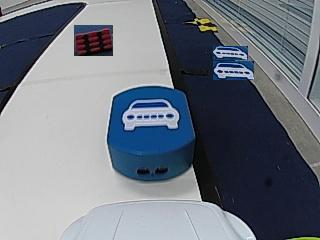safety: (121, 100, 182, 131)
